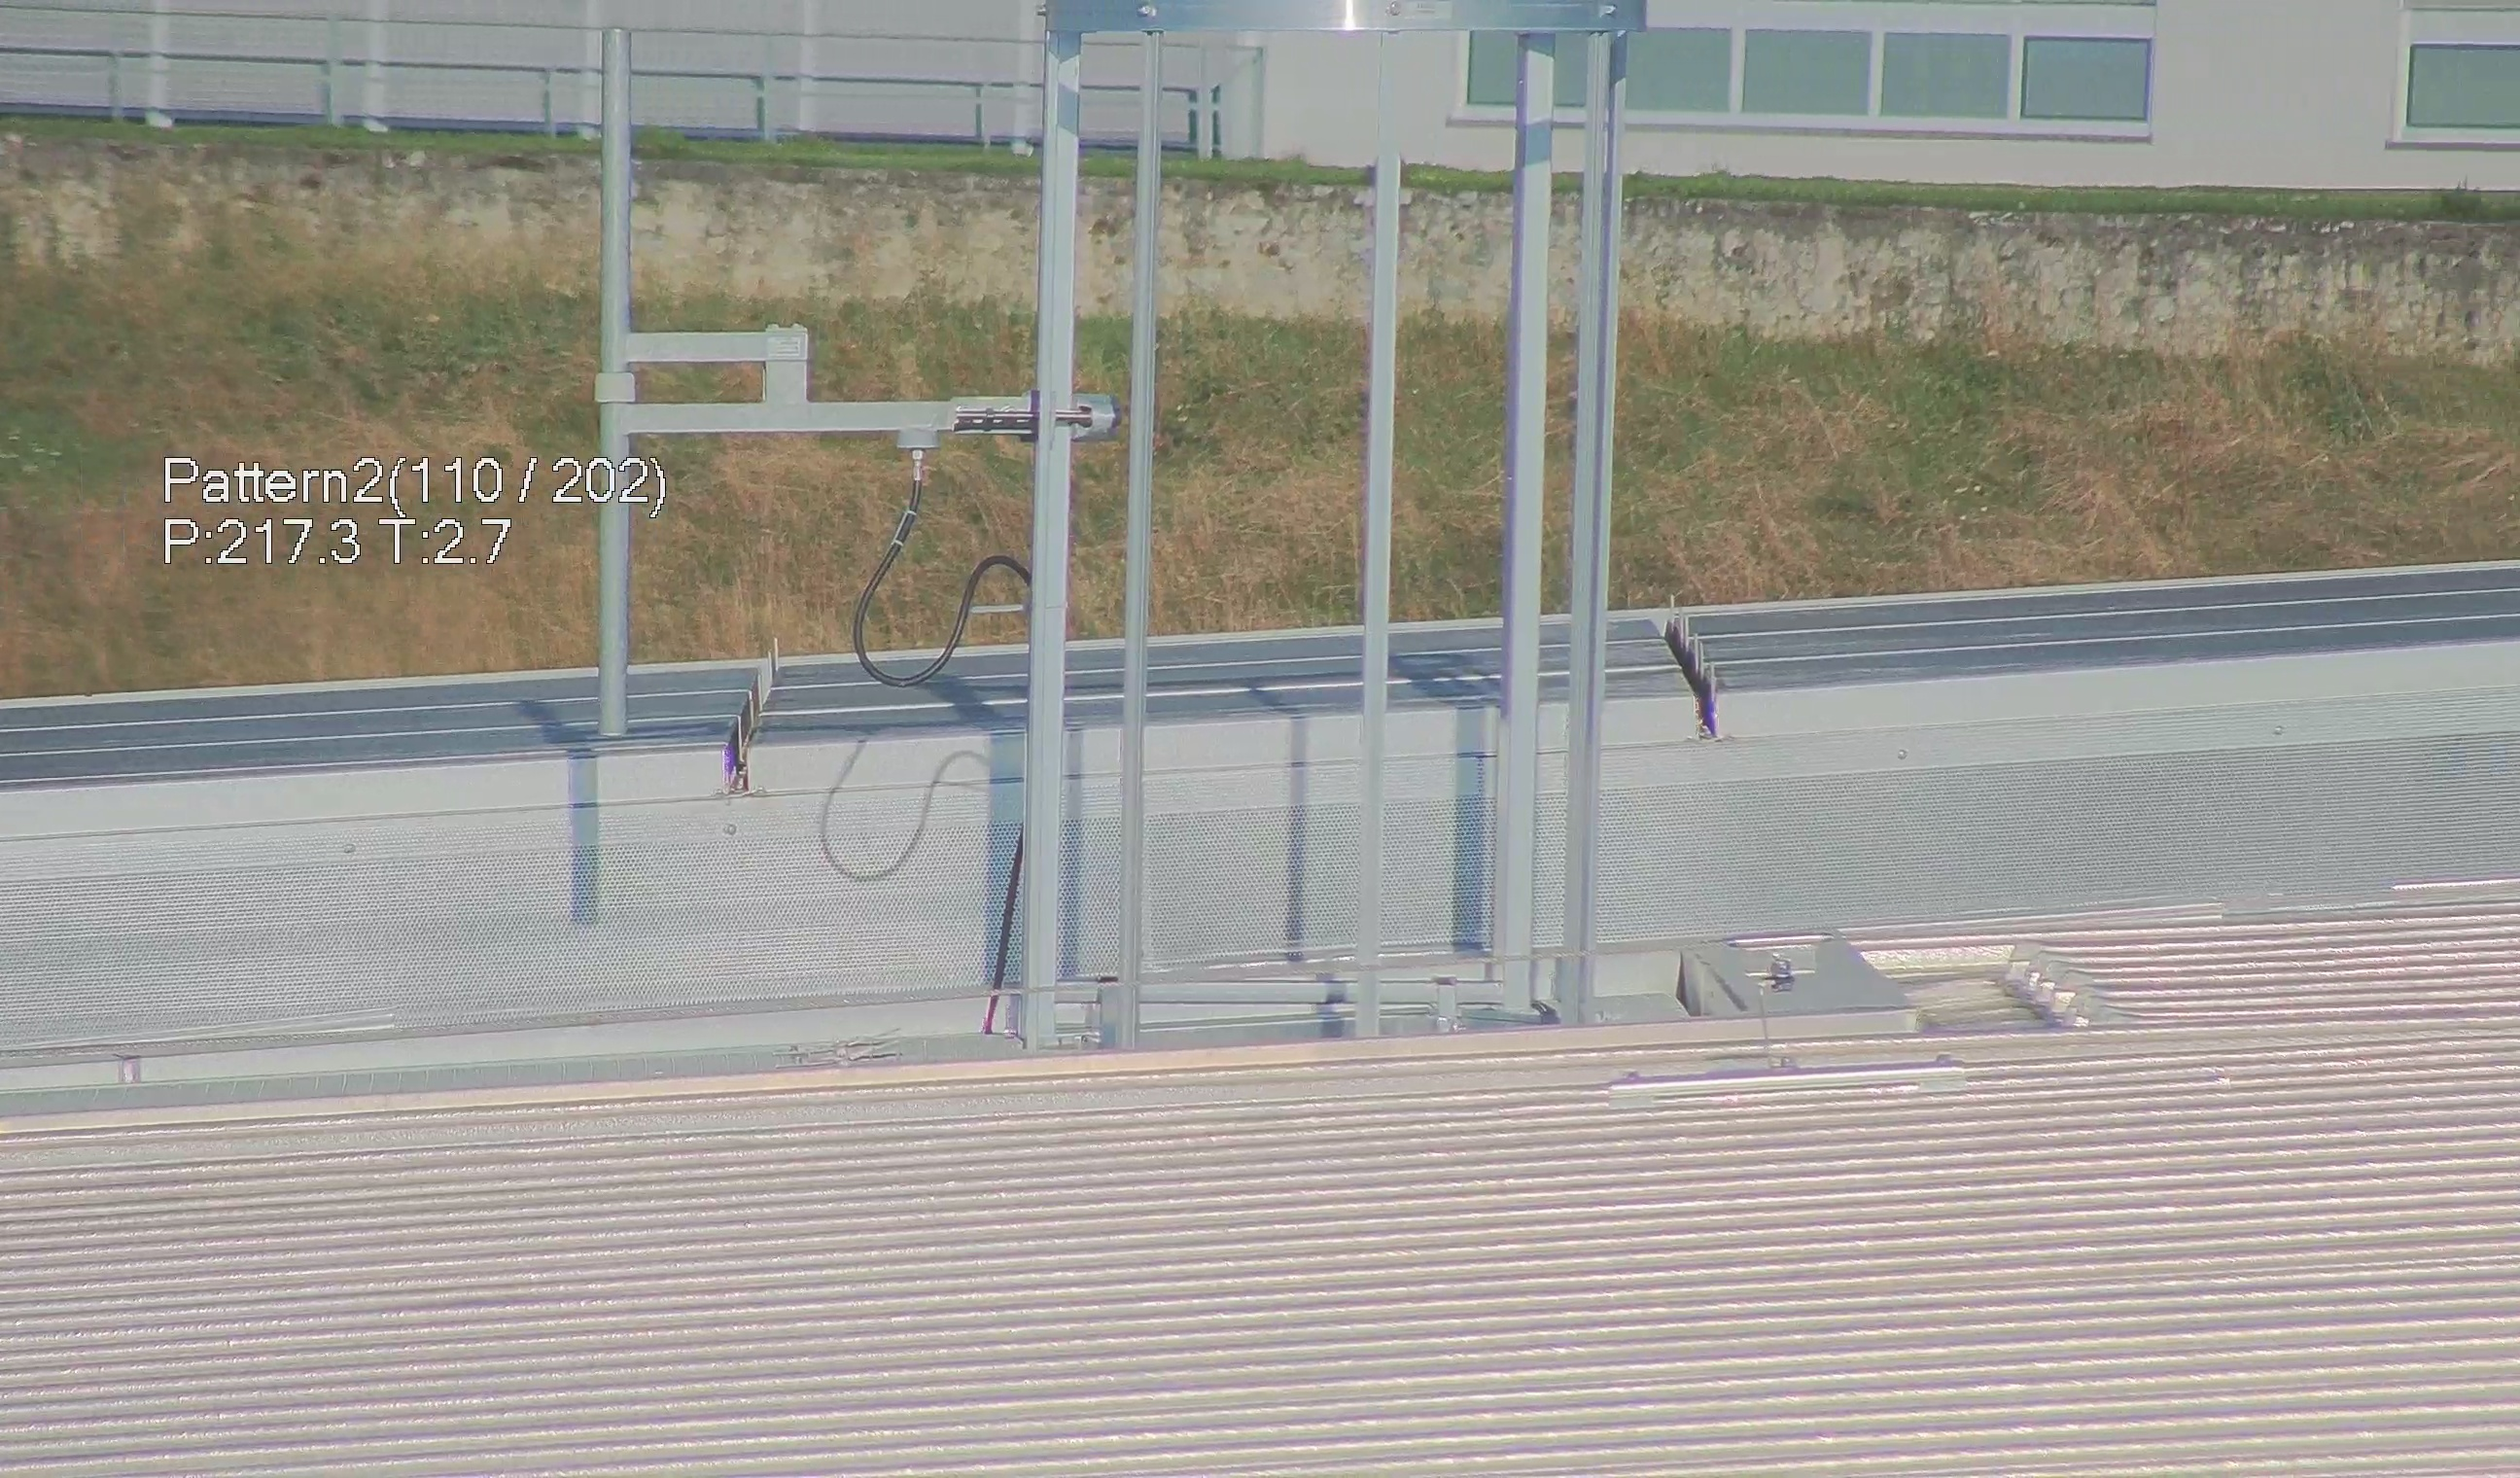Other: (1646, 598, 1739, 741)
